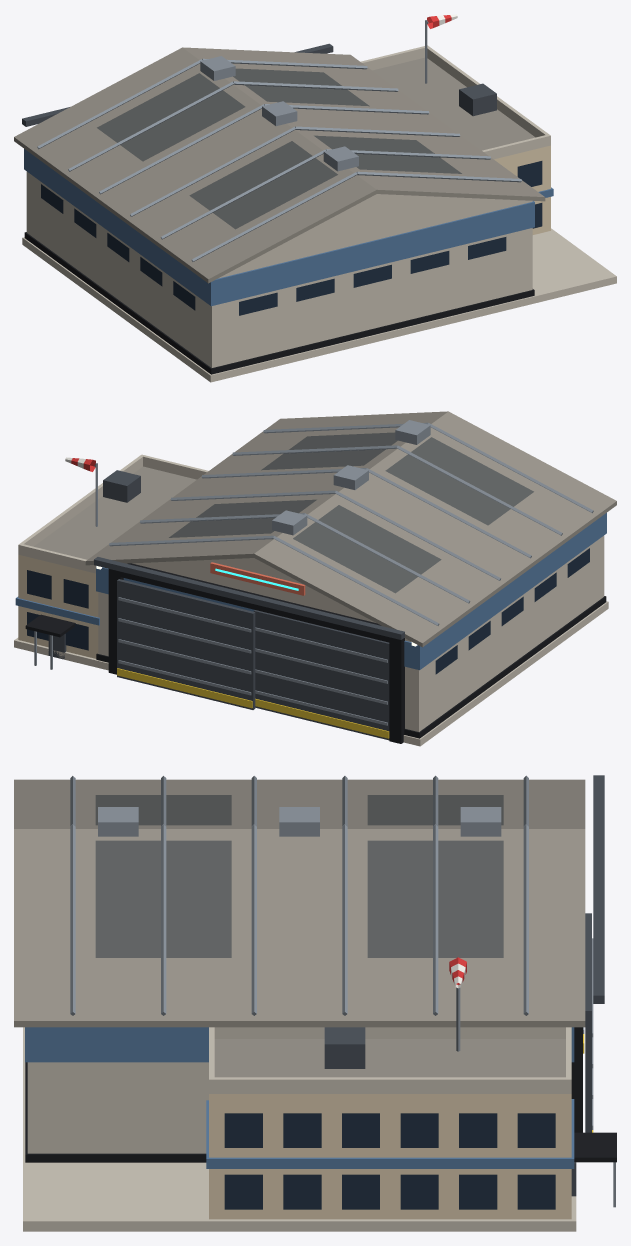
Rendered from hangar_b.glb.
3 renders of one model, top to bottom at view 1: azimuth 30°, elevation 25°; view 2: azimuth 150°, elevation 25°; view 3: azimuth 270°, elevation 25°, orthographic. The views are drawn at different scales.
Visible parts, largest first — view 1: Body; view 2: Body; view 3: Body.
Part boxes in pixels (x1,y1,x2,y2): Body: (14,14,616,382); Body: (14,411,616,746); Body: (14,775,616,1231).
Size of the model in its own units: 30.8 by 12 by 26.6.
